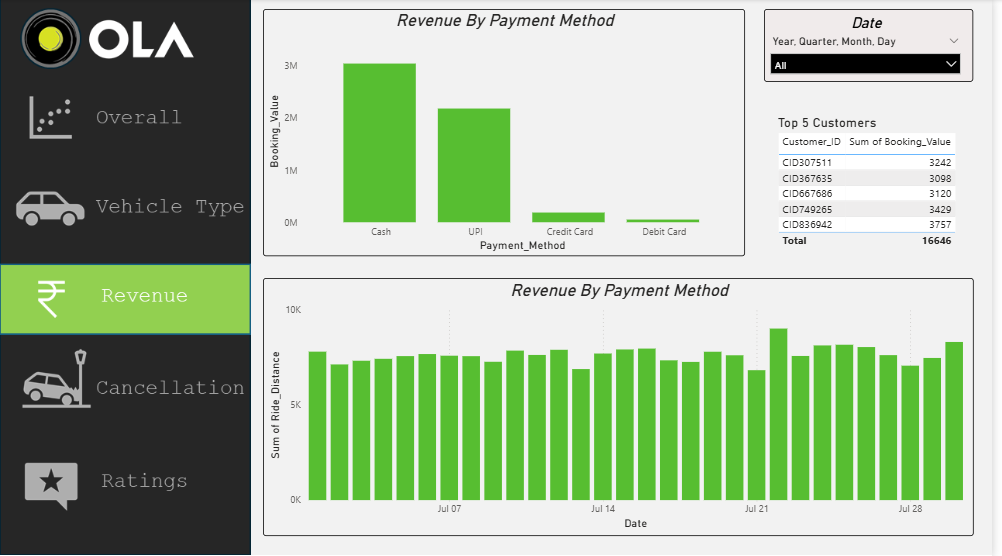

Layout of this report page (visuals, bound fields, positions):
{"tool":"powerbi","page":{"name":"Revenue","canvas":[1280,720],"ordinal":2},"visuals":[{"type":"actionButton","box":[0,574,324.6,92.1],"z":0},{"type":"actionButton","box":[0,219.7,324.6,92.1],"z":1000},{"type":"actionButton","box":[0,107.7,324.6,92.1],"z":2000},{"type":"actionButton","box":[0,445,324.6,92.1],"z":3000},{"type":"columnChart","title":"Revenue By Payment Method","fields":{"Y":["Sum(Cleaning_Bookings-20000-Rows.Booking_Value)"],"Category":["Cleaning_Bookings-20000-Rows.Payment_Method"]},"box":[339.3,13.4,621.5,319.2],"z":4000},{"type":"columnChart","title":"Revenue By Payment Method","fields":{"Y":["Sum(Cleaning_Bookings-20000-Rows.Ride_Distance)"],"Category":["Cleaning_Bookings-20000-Rows.Date"]},"box":[339.3,359.5,917.2,332.6],"z":5000},{"type":"slicer","title":"Date","fields":{"Values":["Cleaning_Bookings-20000-Rows.Date.Variation.Date Hierarchy.Year","Cleaning_Bookings-20000-Rows.Date.Variation.Date Hierarchy.Quarter","Cleaning_Bookings-20000-Rows.Date.Variation.Date Hierarchy.Month","Cleaning_Bookings-20000-Rows.Date.Variation.Date Hierarchy.Day"]},"box":[986,13.4,270.4,94.1],"z":6000},{"type":"tableEx","title":"Top 5 Customers","fields":{"Values":["Cleaning_Bookings-20000-Rows.Customer_ID","Sum(Cleaning_Bookings-20000-Rows.Booking_Value)"]},"box":[986,129.3,270.4,203.3],"z":7000}]}

Visuals, with their boxes in screenshot pixels (x1, y1, x2, y2), scaled from the page's 1280x720 canvas onto the 1002x556 screenshot:
actionButton: 0, 443, 254, 514
actionButton: 0, 170, 254, 241
actionButton: 0, 83, 254, 154
actionButton: 0, 344, 254, 415
"Revenue By Payment Method" columnChart: 266, 10, 752, 257
"Revenue By Payment Method" columnChart: 266, 278, 984, 534
"Date" slicer: 772, 10, 984, 83
"Top 5 Customers" tableEx: 772, 100, 984, 257
